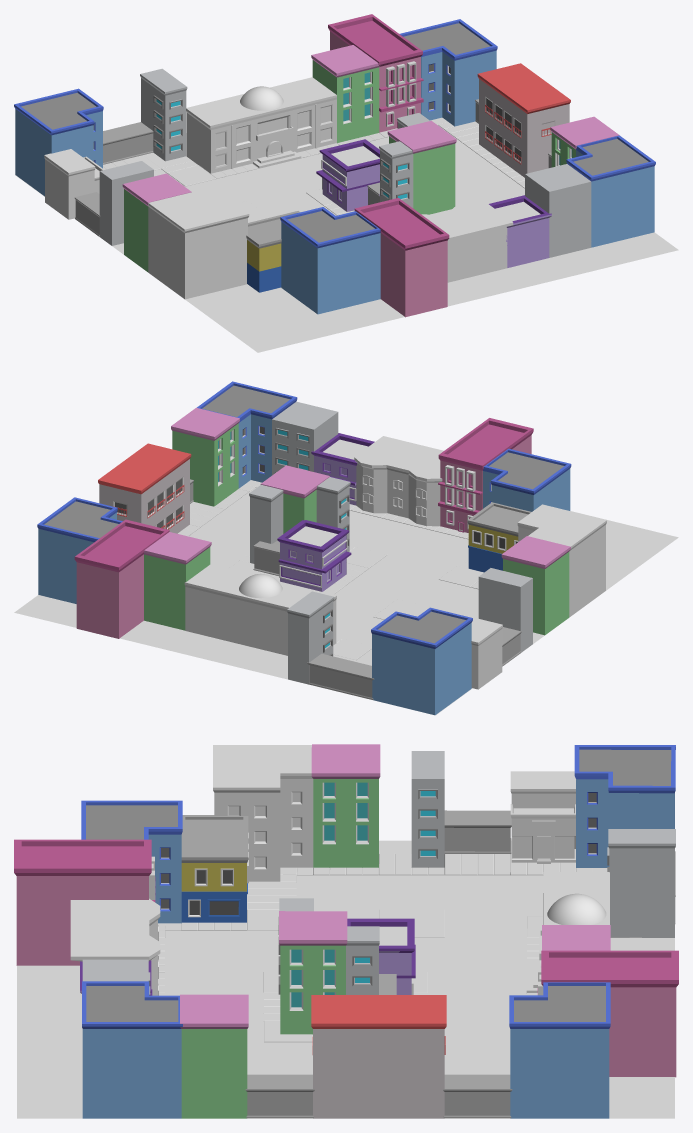
The model's file is colortest1city.fbx.
The picture shows the model from 3 angles, top to bottom: view 1: azimuth 30°, elevation 25°; view 2: azimuth 150°, elevation 25°; view 3: azimuth 270°, elevation 25°; orthographic projection. The views are drawn at different scales.
Visible parts, largest first — view 1: Plane, Cube.030, Cube.046, Cube.008, Cube.036, Cube.045, Cube.040, Cube.035, Cube.002, Cube.048, Cube.032, Cube.044 (+18 smaller); view 2: Plane, Cube.002, Cube.048, Cube.030, Cube.044, Cube.036, Cube.045, Cube.035, Cube.008, Cube.037, Cube.032, Cube.040 (+22 smaller); view 3: Plane, Cube.036, Cube.035, Cube.040, Cube.045, Cube.048, Cube.008, Cube.002, Cube.037, Cube.005, Cube.006, Cube.033 (+29 smaller).
Part boxes in pixels (x1=…): Plane: x1=15, y1=133, x2=678, y2=352; Cube.030: x1=186, y1=77, x2=336, y2=173; Cube.046: x1=280, y1=207, x2=380, y2=314; Cube.008: x1=148, y1=192, x2=249, y2=299; Cube.036: x1=477, y1=63, x2=570, y2=177; Cube.045: x1=354, y1=198, x2=449, y2=317; Cube.040: x1=566, y1=135, x2=655, y2=247; Cube.035: x1=400, y1=19, x2=497, y2=126; Cube.002: x1=14, y1=88, x2=103, y2=196; Cube.048: x1=328, y1=14, x2=423, y2=132; Cube.032: x1=311, y1=45, x2=380, y2=142; Cube.044: x1=421, y1=200, x2=513, y2=282; Plane: x1=14, y1=502, x2=678, y2=715; Cube.002: x1=371, y1=607, x2=472, y2=715; Cube.048: x1=74, y1=519, x2=169, y2=638; Cube.030: x1=184, y1=564, x2=336, y2=655; Cube.044: x1=354, y1=436, x2=443, y2=526; Cube.036: x1=98, y1=443, x2=191, y2=533; Cube.045: x1=438, y1=418, x2=533, y2=532; Cube.035: x1=37, y1=497, x2=122, y2=603; Cube.008: x1=517, y1=504, x2=606, y2=617; Cube.037: x1=171, y1=407, x2=239, y2=506; Cube.032: x1=144, y1=532, x2=211, y2=630; Cube.040: x1=197, y1=381, x2=297, y2=488; Plane: x1=17, y1=840, x2=674, y2=1118; Cube.036: x1=311, y1=995, x2=446, y2=1118; Cube.035: x1=509, y1=982, x2=610, y2=1118; Cube.040: x1=82, y1=981, x2=182, y2=1118; Cube.045: x1=14, y1=839, x2=155, y2=965; Cube.048: x1=537, y1=950, x2=678, y2=1077; Cube.008: x1=213, y1=745, x2=313, y2=881; Cube.002: x1=574, y1=745, x2=675, y2=867; Cube.037: x1=180, y1=994, x2=248, y2=1118; Cube.005: x1=311, y1=744, x2=380, y2=867; Cube.006: x1=181, y1=815, x2=248, y2=922; Cube.033: x1=607, y1=829, x2=675, y2=937.
Size of the model in its own units: 2036 by 329 by 2021.
